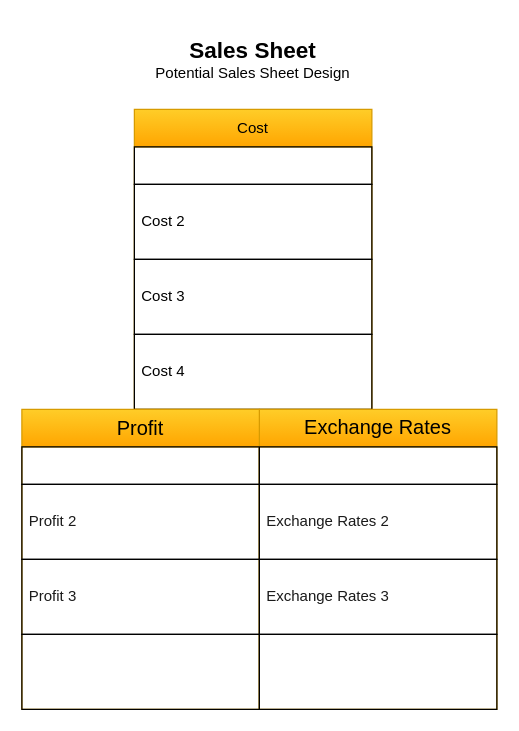
Some shapes in this 519 by 731 pixel diagram are drawn without their labels. Here are the shapes that lost their labels. From the top down, the box of each, then its label:
(133, 146, 372, 184): Cost 1
(21, 446, 259, 484): Profit 1
(258, 446, 497, 484): Exchange Rates 1
(21, 633, 259, 709): Profit 4
(258, 633, 497, 709): Exchange Rates 4
